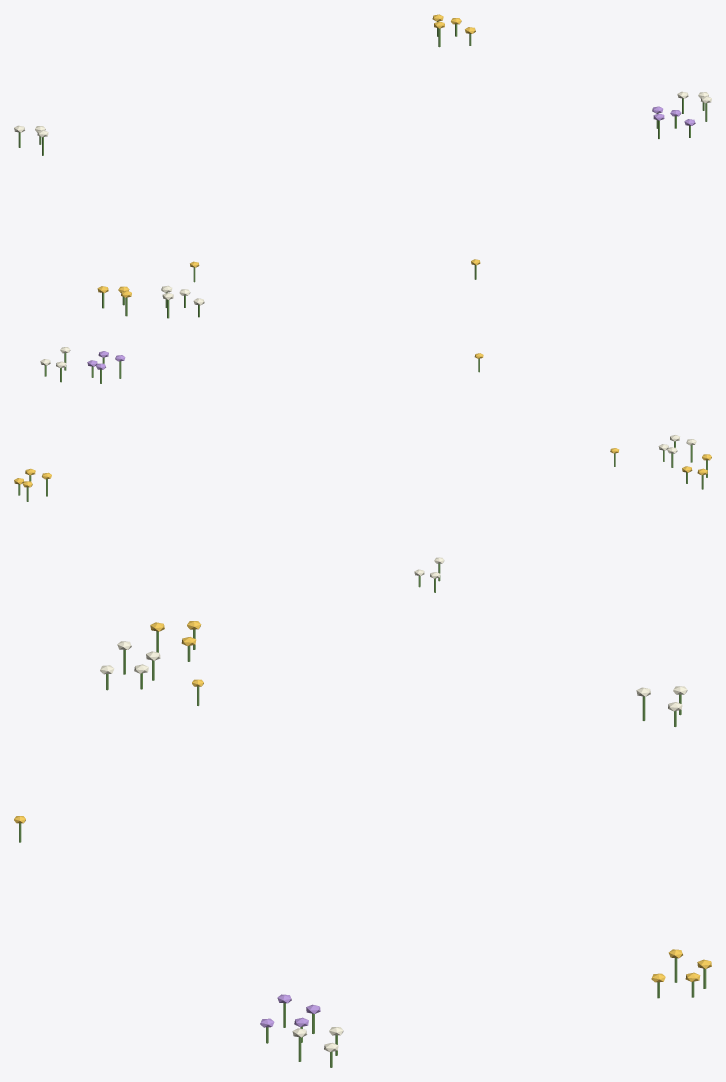
File: MOD_FlowerSet.fbx
3 views of the same model, one above another, from view 1: azimuth 30°, elevation 25°; view 2: azimuth 150°, elevation 25°; view 3: azimuth 270°, elevation 25° (orthographic). The views are drawn at different scales.
Size of the model in its own units: 16.93 by 0.6 by 11.77.
